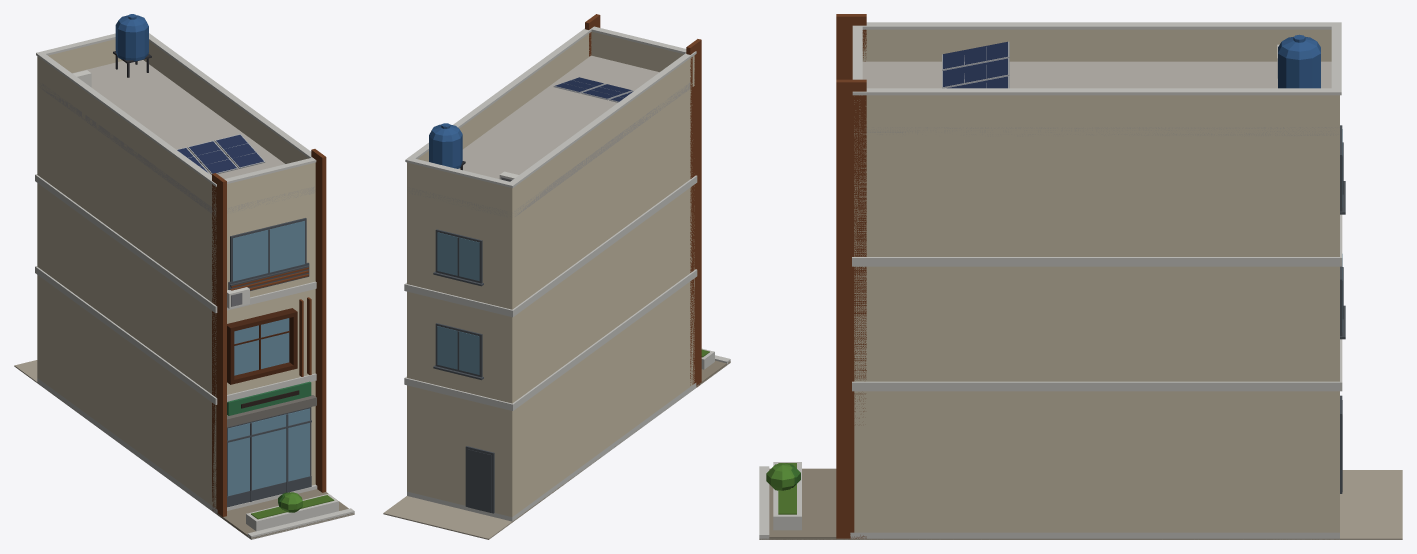
File: bay1_mid.glb
3 renders of one model, left to right at view 1: azimuth 30°, elevation 25°; view 2: azimuth 150°, elevation 25°; view 3: azimuth 270°, elevation 25°, orthographic. The views are drawn at different scales.
Parts seen in each view (by area): view 1: body; view 2: body; view 3: body.
Part boxes in pixels (bbox=[...]): body: bbox=[14, 14, 354, 539]; body: bbox=[383, 14, 730, 539]; body: bbox=[759, 14, 1402, 539].
Size of the model in its own units: 4.12 by 13.29 by 15.9.
